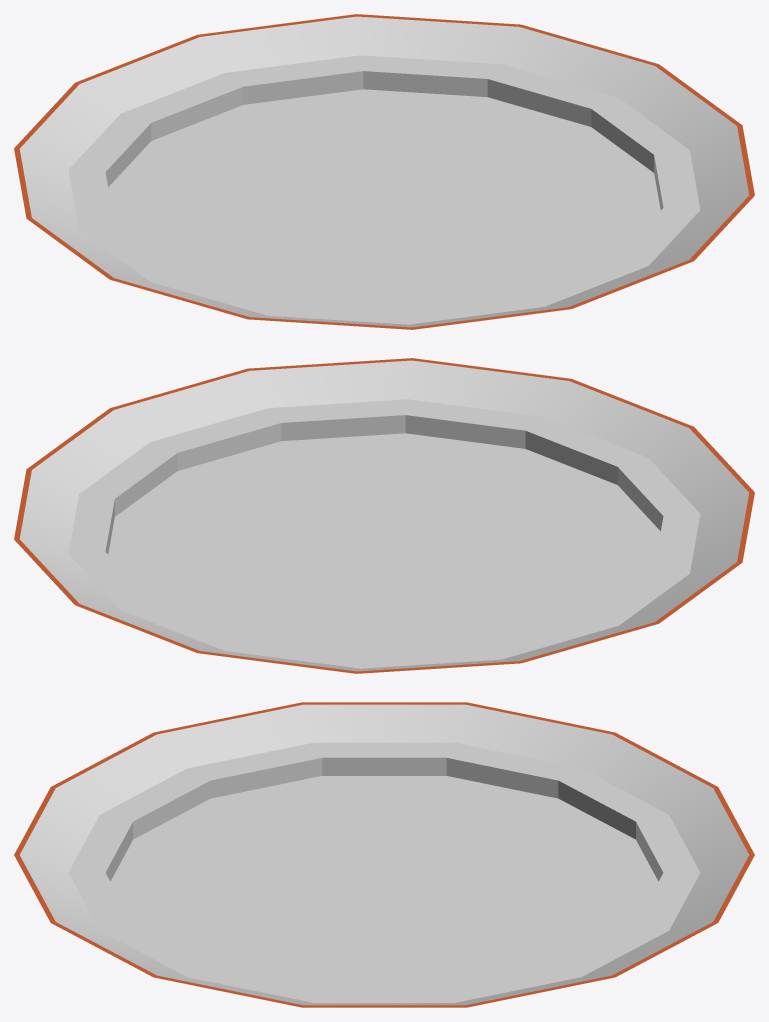
Rendered from Plate_Fixed_Pivot.fbx.
The picture shows the model from 3 angles, top to bottom: view 1: azimuth 30°, elevation 25°; view 2: azimuth 150°, elevation 25°; view 3: azimuth 270°, elevation 25°; orthographic projection.
Parts seen in each view (by area): view 1: Circle.001; view 2: Circle.001; view 3: Circle.001.
Boxes of the visible parts, x1,y1,x2,y2 form: Circle.001: (14,14,754,329); Circle.001: (14,358,754,673); Circle.001: (14,702,754,1007).
Bounding box in the file's own units: 129 × 7.08 × 133.
